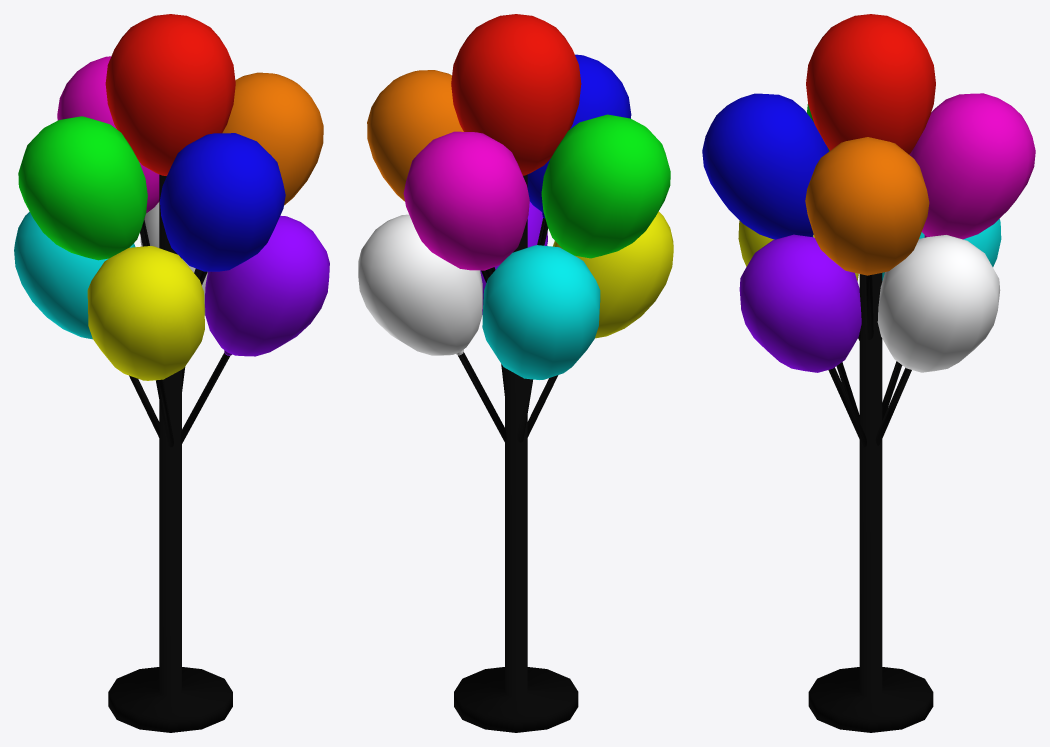
Rendered from BalloonStand.fbx.
The picture shows the model from 3 angles, left to right: view 1: azimuth 30°, elevation 25°; view 2: azimuth 150°, elevation 25°; view 3: azimuth 270°, elevation 25°; orthographic projection.
Parts seen in each view (by area): view 1: Balloons; view 2: Balloons; view 3: Balloons.
Part boxes in pixels (x1=…): Balloons: x1=14, y1=14, x2=329, y2=732; Balloons: x1=358, y1=14, x2=673, y2=732; Balloons: x1=702, y1=14, x2=1035, y2=732.
Size of the model in its own units: 128 by 291 by 128.
